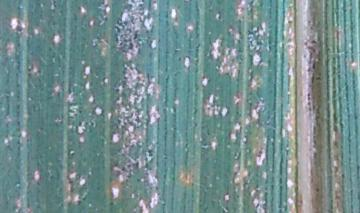tarspot: (306, 90, 313, 113), (310, 72, 317, 86), (146, 148, 155, 158), (127, 41, 135, 52), (132, 31, 140, 42), (311, 58, 317, 71), (310, 38, 318, 46), (314, 75, 322, 82), (286, 18, 293, 25), (314, 186, 320, 193)
